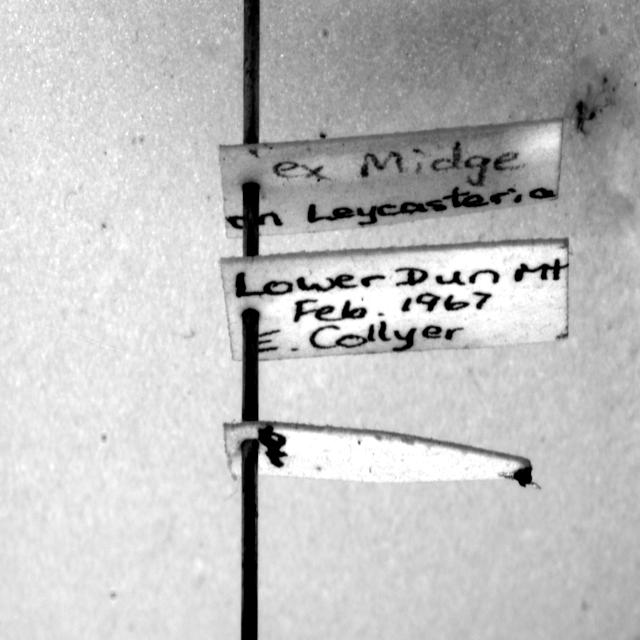hand_label: (221, 238, 569, 360), (220, 118, 562, 238)
